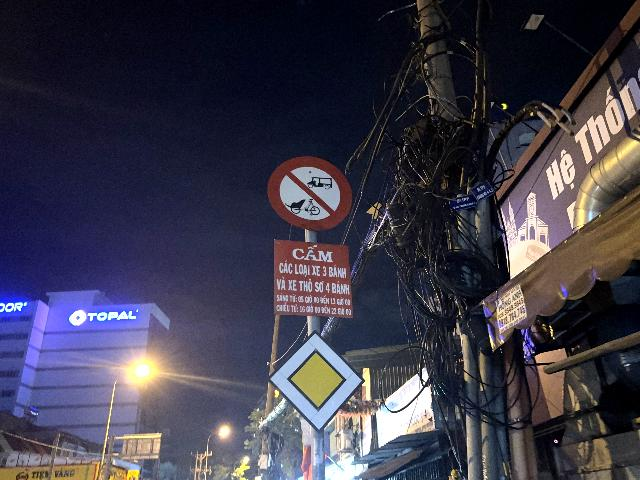bat-dau-duong-uu-tien: (267, 329, 365, 433)
cam-xe-3-banh-xe-tho-so-4-banh: (267, 155, 353, 232)
